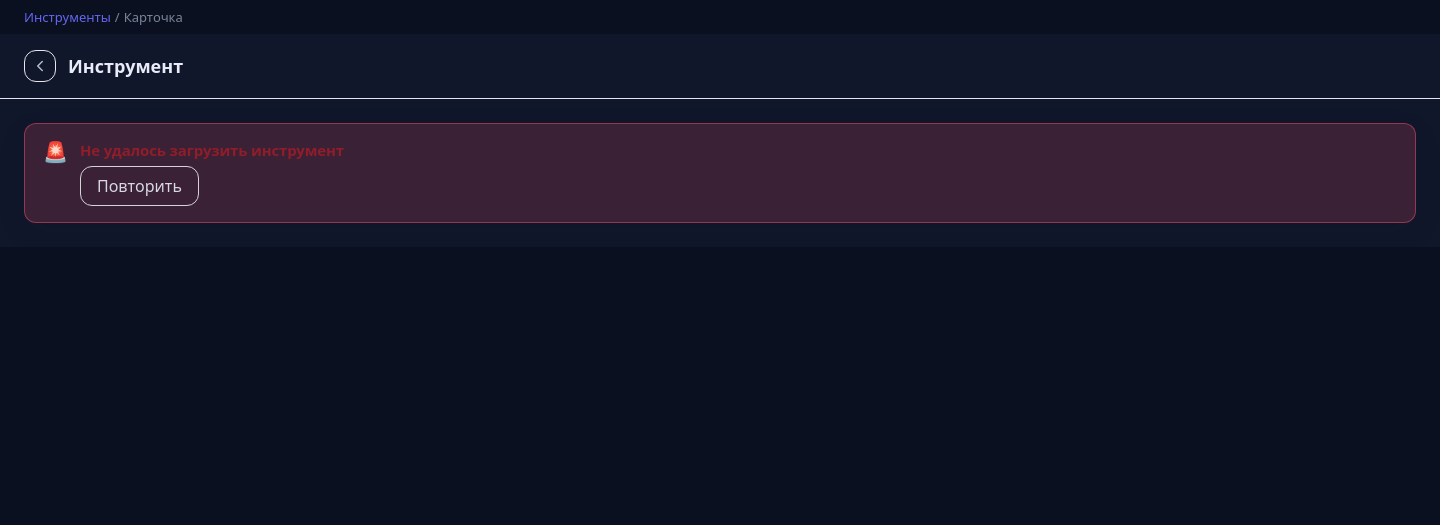
Test: tool settings › shows a retry action when loading the detail fails
The width and height of the screenshot is (1440, 525).
Check: the message shows "Не удалось загрузить инструмент", box [80,140,344,160]
Click the button "Повторить". click: (140, 186)
box: [80,166,199,206]
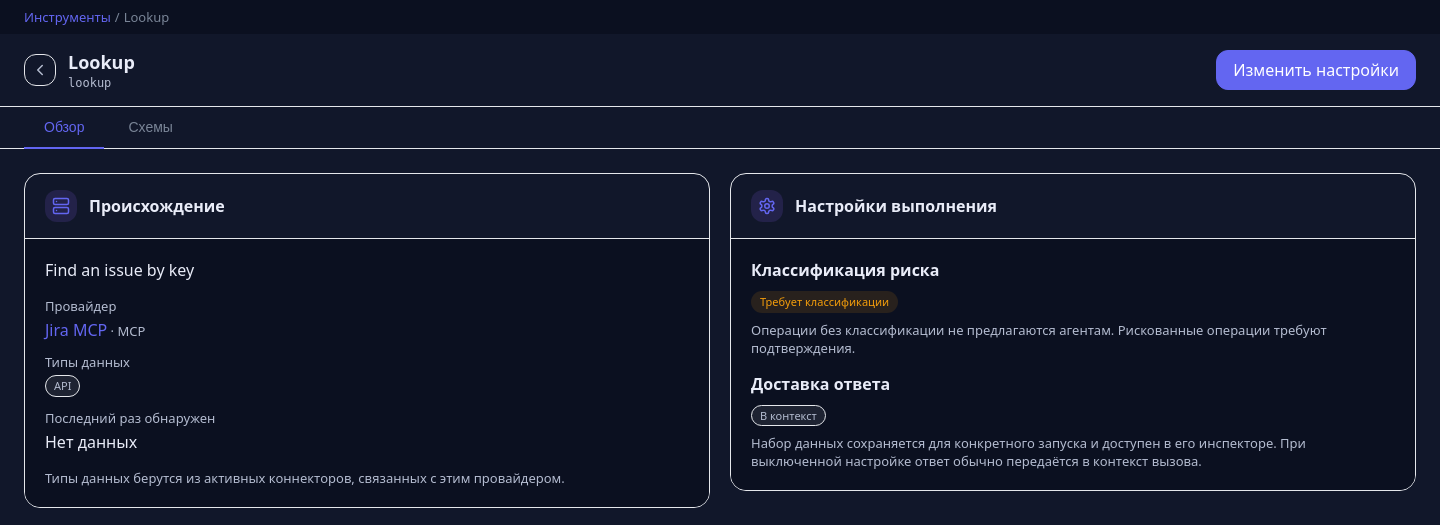
Check: the heading "Lookup" is shown, box [68,50,135,74]
